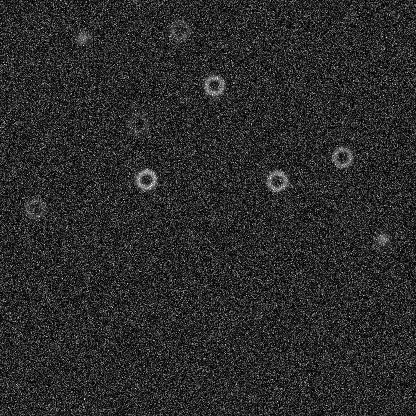Ring: (134, 167, 158, 191), (167, 17, 191, 41), (264, 168, 288, 192), (125, 111, 149, 135), (202, 73, 226, 97), (330, 145, 354, 169), (22, 196, 46, 220)
Spot: (374, 231, 390, 247), (74, 29, 90, 45)
